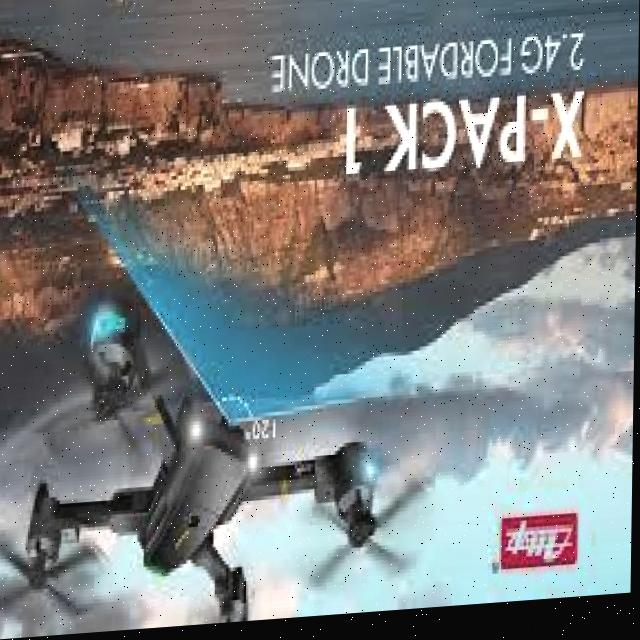drone: (0, 263, 418, 640)
